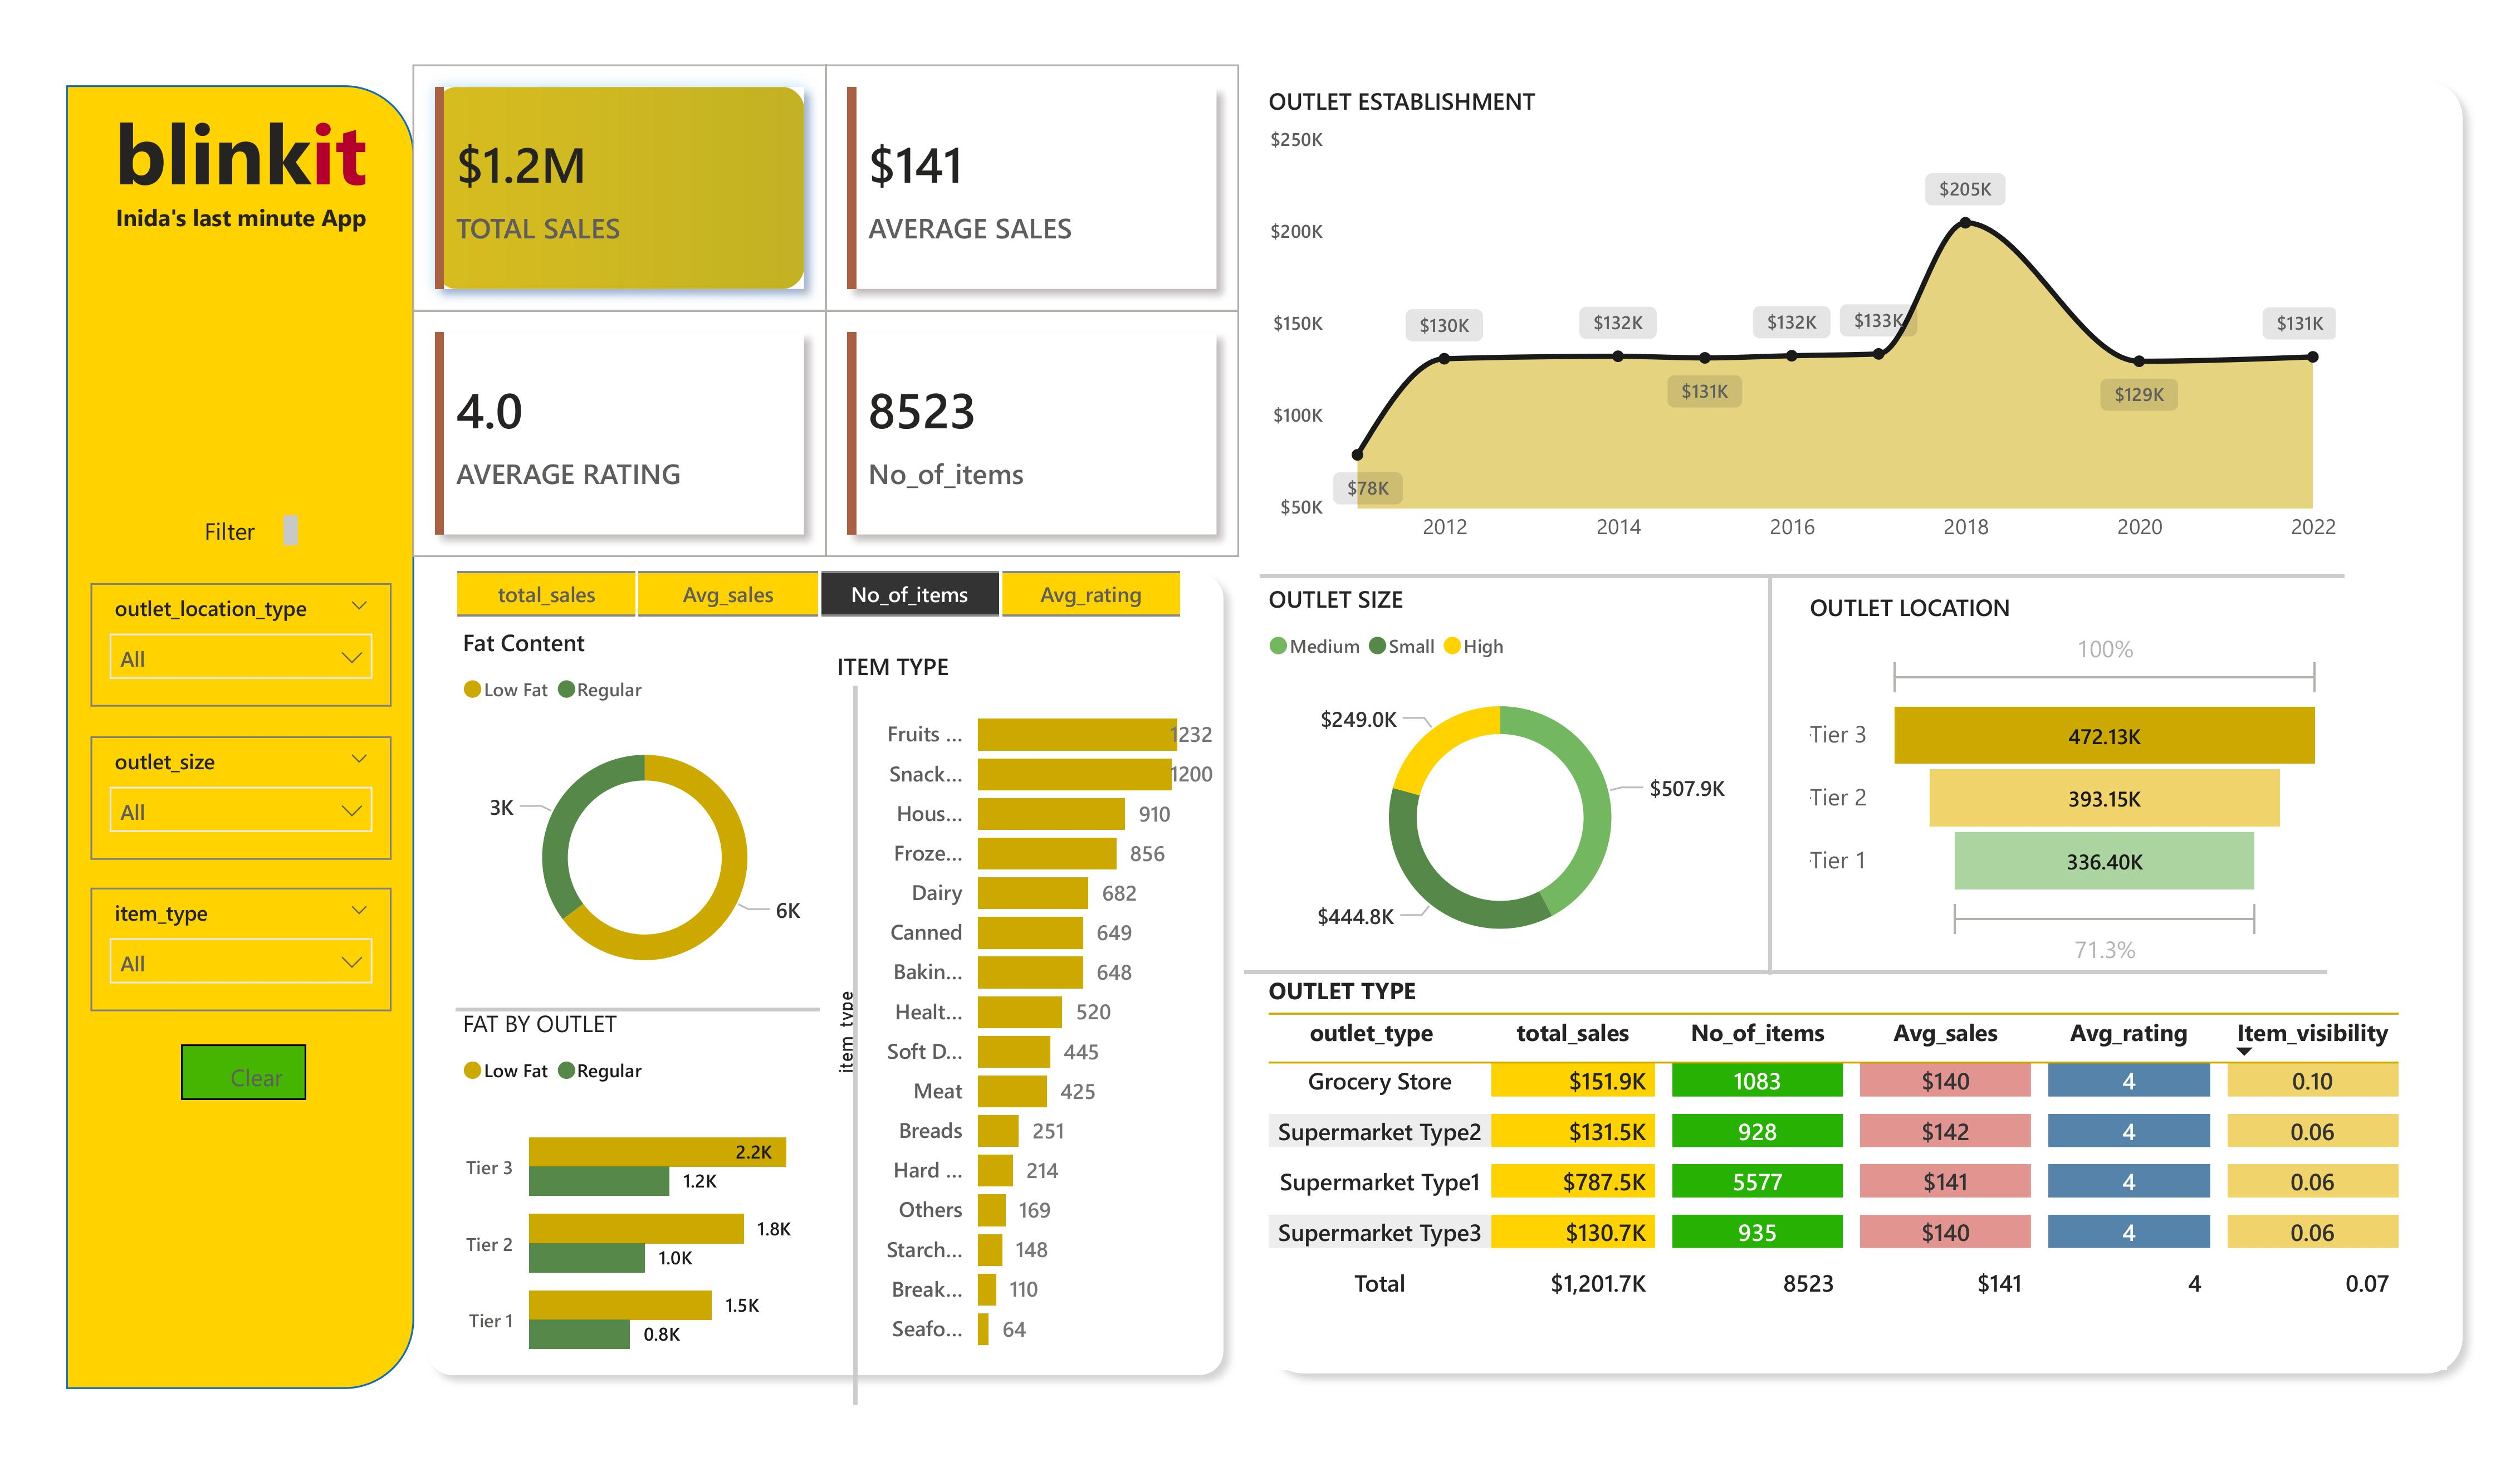

Layout of this report page (visuals, bound fields, positions):
{"tool":"powerbi","page":{"name":"Page 1","canvas":[1400,800],"ordinal":0},"visuals":[{"type":"shape","box":[14.1,24.7,199.7,749.4],"z":0},{"type":"textbox","box":[28.3,24.7,173.2,91.9],"z":1000},{"type":"textbox","box":[28.3,86.6,173.2,30],"z":2000},{"type":"cardVisual","fields":{"Data":["public sales_data.total_sales","public sales_data.Avg_sales","public sales_data.Avg_rating","public sales_data.No_of_items"]},"box":[213.3,13.3,475,283.3],"z":3000},{"type":"shape","box":[213.3,296.7,475,478.3],"z":4000},{"type":"donutChart","title":"Fat Content","fields":{"Y":["public sales_data.No_of_items"],"Category":["public sales_data.item_fat_content"]},"box":[236.8,335.8,219.2,220.9],"z":5000},{"type":"slicer","fields":{"Values":["Metrics.Metrics"]},"box":[213.3,296.7,465,40],"z":6000},{"type":"clusteredBarChart","title":"FAT BY OUTLET","fields":{"Y":["public sales_data.No_of_items"],"Category":["public sales_data.outlet_location_type"],"Series":["public sales_data.item_fat_content"]},"box":[236.7,555,220,220],"z":7000},{"type":"shape","box":[238.3,546.7,208.3,18.3],"z":8000},{"type":"shape","box":[966.7,316.4,17.7,190.9],"z":9000},{"type":"barChart","title":"ITEM TYPE","fields":{"Y":["public sales_data.No_of_items"],"Category":["public sales_data.item_type"]},"box":[451.7,350,226.7,413.3],"z":10000},{"type":"shape","box":[694.6,14.1,705.2,760],"z":11000},{"type":"lineChart","title":"OUTLET ESTABLISHMENT","fields":{"Y":["public sales_data.total_sales"],"Category":["public sales_data.outlet_establishment_year"]},"box":[700,25,623.3,271.7],"z":12000},{"type":"shape","box":[700,296.7,623.3,20],"z":13000},{"type":"donutChart","title":"OUTLET SIZE","fields":{"Y":["public sales_data.total_sales"],"Category":["public sales_data.outlet_size"]},"box":[699.9,311.1,275.7,224.5],"z":14000},{"type":"shape","box":[984.4,307.5,17.7,228],"z":15000},{"type":"shape","box":[458.3,370,18.3,413.3],"z":16000},{"type":"funnel","title":"OUTLET LOCATION","fields":{"Category":["public sales_data.outlet_location_type"],"Y":["Sum(public sales_data.sales)"]},"box":[1010.9,316.4,305,220],"z":17000},{"type":"shape","box":[691,524.9,622.1,19.4],"z":18000},{"type":"pivotTable","title":"OUTLET TYPE","fields":{"Rows":["public sales_data.outlet_type"],"Values":["public sales_data.total_sales","public sales_data.No_of_items","public sales_data.Avg_sales","public sales_data.Avg_rating","Avg(public sales_data.item_visibility)"]},"box":[699.9,535.5,682.2,228],"z":19000},{"type":"slicer","fields":{"Values":["public sales_data.outlet_location_type"]},"box":[28.3,311.1,173.2,70.7],"z":20000},{"type":"slicer","fields":{"Values":["public sales_data.outlet_size"]},"box":[28.3,399.4,173.2,70.7],"z":21000},{"type":"slicer","fields":{"Values":["public sales_data.item_type"]},"box":[28.3,486,173.2,70.7],"z":22000},{"type":"actionButton","box":[79.5,576.2,72.5,31.8],"z":23000},{"type":"textbox","box":[72.5,266.9,79.5,30],"z":24000}]}

Visuals, with their boxes on the page's 1400x800 design canvas (x1, y1, x2, y2). These are canvas units, not pixel positions in the 2520x1476 screenshot, which may show the page scaled, cropped or inside an application window:
shape: [14,25,214,774]
textbox: [28,25,202,117]
textbox: [28,87,202,117]
cardVisual - public sales_data.total_sales x public sales_data.Avg_sales: [213,13,688,297]
shape: [213,297,688,775]
"Fat Content" donutChart: [237,336,456,557]
slicer - Metrics.Metrics: [213,297,678,337]
"FAT BY OUTLET" clusteredBarChart: [237,555,457,775]
shape: [238,547,447,565]
shape: [967,316,984,507]
"ITEM TYPE" barChart: [452,350,678,763]
shape: [695,14,1400,774]
"OUTLET ESTABLISHMENT" lineChart: [700,25,1323,297]
shape: [700,297,1323,317]
"OUTLET SIZE" donutChart: [700,311,976,536]
shape: [984,308,1002,536]
shape: [458,370,477,783]
"OUTLET LOCATION" funnel: [1011,316,1316,536]
shape: [691,525,1313,544]
"OUTLET TYPE" pivotTable: [700,536,1382,764]
slicer - public sales_data.outlet_location_type: [28,311,202,382]
slicer - public sales_data.outlet_size: [28,399,202,470]
slicer - public sales_data.item_type: [28,486,202,557]
actionButton: [80,576,152,608]
textbox: [72,267,152,297]
